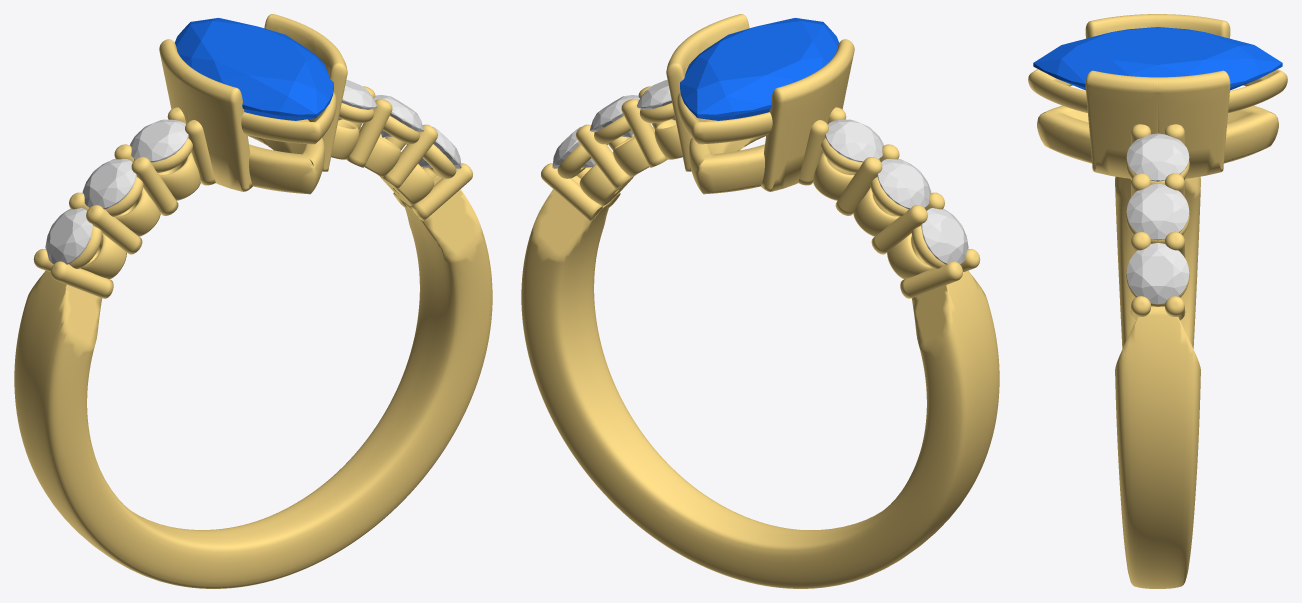
Rendered from bluesapphire-marquise-yellowgold-halfmoonbezel-straighttaperedband-7stone.glb.
The picture shows the model from 3 angles, left to right: view 1: azimuth 30°, elevation 25°; view 2: azimuth 150°, elevation 25°; view 3: azimuth 270°, elevation 25°; orthographic projection.
Parts seen in each view (by area): view 1: metal.003, stone.002, side.002, side.013, side.014, side.016, side.017; view 2: metal.003, stone.002, side.002, side.013, side.014, side.016, side.017; view 3: metal.003, stone.002, side.015, side.016, side.017.
Boxes of the visible parts, x1=… form: metal.003: x1=14, y1=14, x2=492, y2=588; stone.002: x1=175, y1=18, x2=333, y2=120; side.002: x1=45, y1=207, x2=92, y2=264; side.013: x1=82, y1=159, x2=136, y2=209; side.014: x1=130, y1=119, x2=188, y2=162; side.016: x1=374, y1=95, x2=423, y2=137; side.017: x1=338, y1=80, x2=376, y2=120; metal.003: x1=521, y1=14, x2=999, y2=588; stone.002: x1=680, y1=18, x2=838, y2=120; side.002: x1=921, y1=208, x2=968, y2=264; side.013: x1=877, y1=159, x2=931, y2=209; side.014: x1=825, y1=119, x2=883, y2=162; side.016: x1=589, y1=95, x2=639, y2=137; side.017: x1=637, y1=80, x2=675, y2=120; metal.003: x1=1028, y1=14, x2=1287, y2=588; stone.002: x1=1033, y1=27, x2=1282, y2=90; side.015: x1=1126, y1=243, x2=1189, y2=304; side.016: x1=1126, y1=184, x2=1189, y2=240; side.017: x1=1126, y1=133, x2=1189, y2=181.
Bounding box in the file's own units: 20.5 × 22.93 × 10.4.
